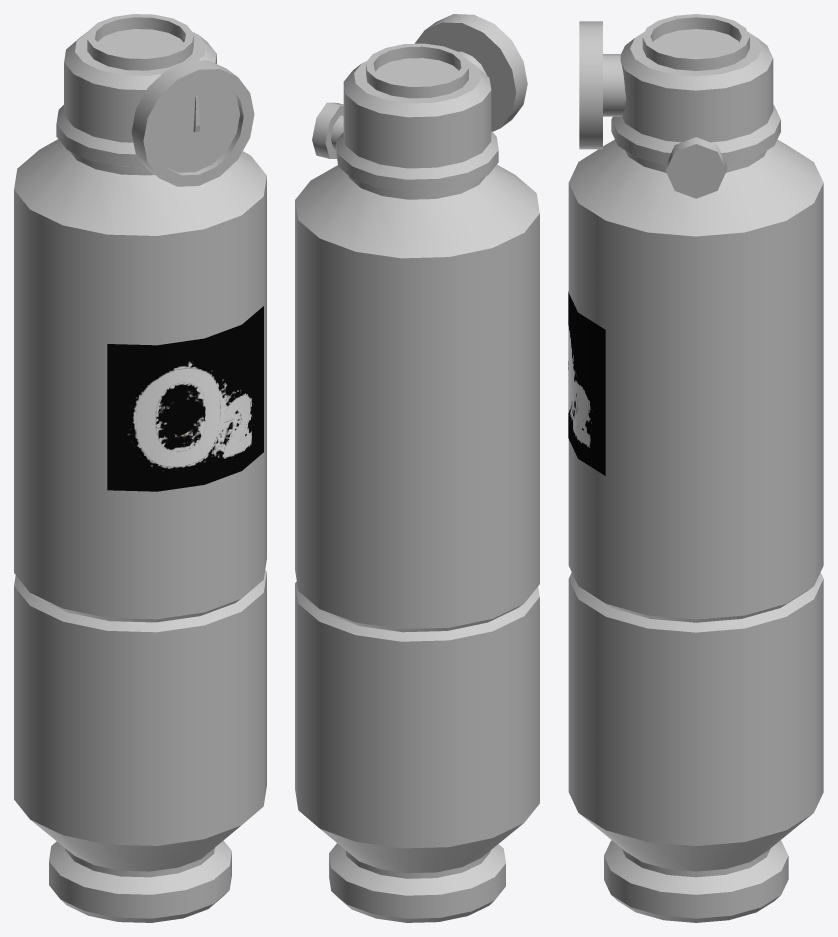
The model's file is Life_support_oxygen_tank.fbx.
3 renders of one model, left to right at view 1: azimuth 30°, elevation 25°; view 2: azimuth 150°, elevation 25°; view 3: azimuth 270°, elevation 25°, orthographic. The views are drawn at different scales.
Parts seen in each view (by area): view 1: Life_support_oxygen_tank; view 2: Life_support_oxygen_tank; view 3: Life_support_oxygen_tank.
Part boxes in pixels (x1,y1,x2,y2): Life_support_oxygen_tank: (14, 14, 266, 922); Life_support_oxygen_tank: (295, 14, 539, 922); Life_support_oxygen_tank: (568, 14, 823, 922).
Bounding box in the file's own units: 20.49 × 76.23 × 20.52.
